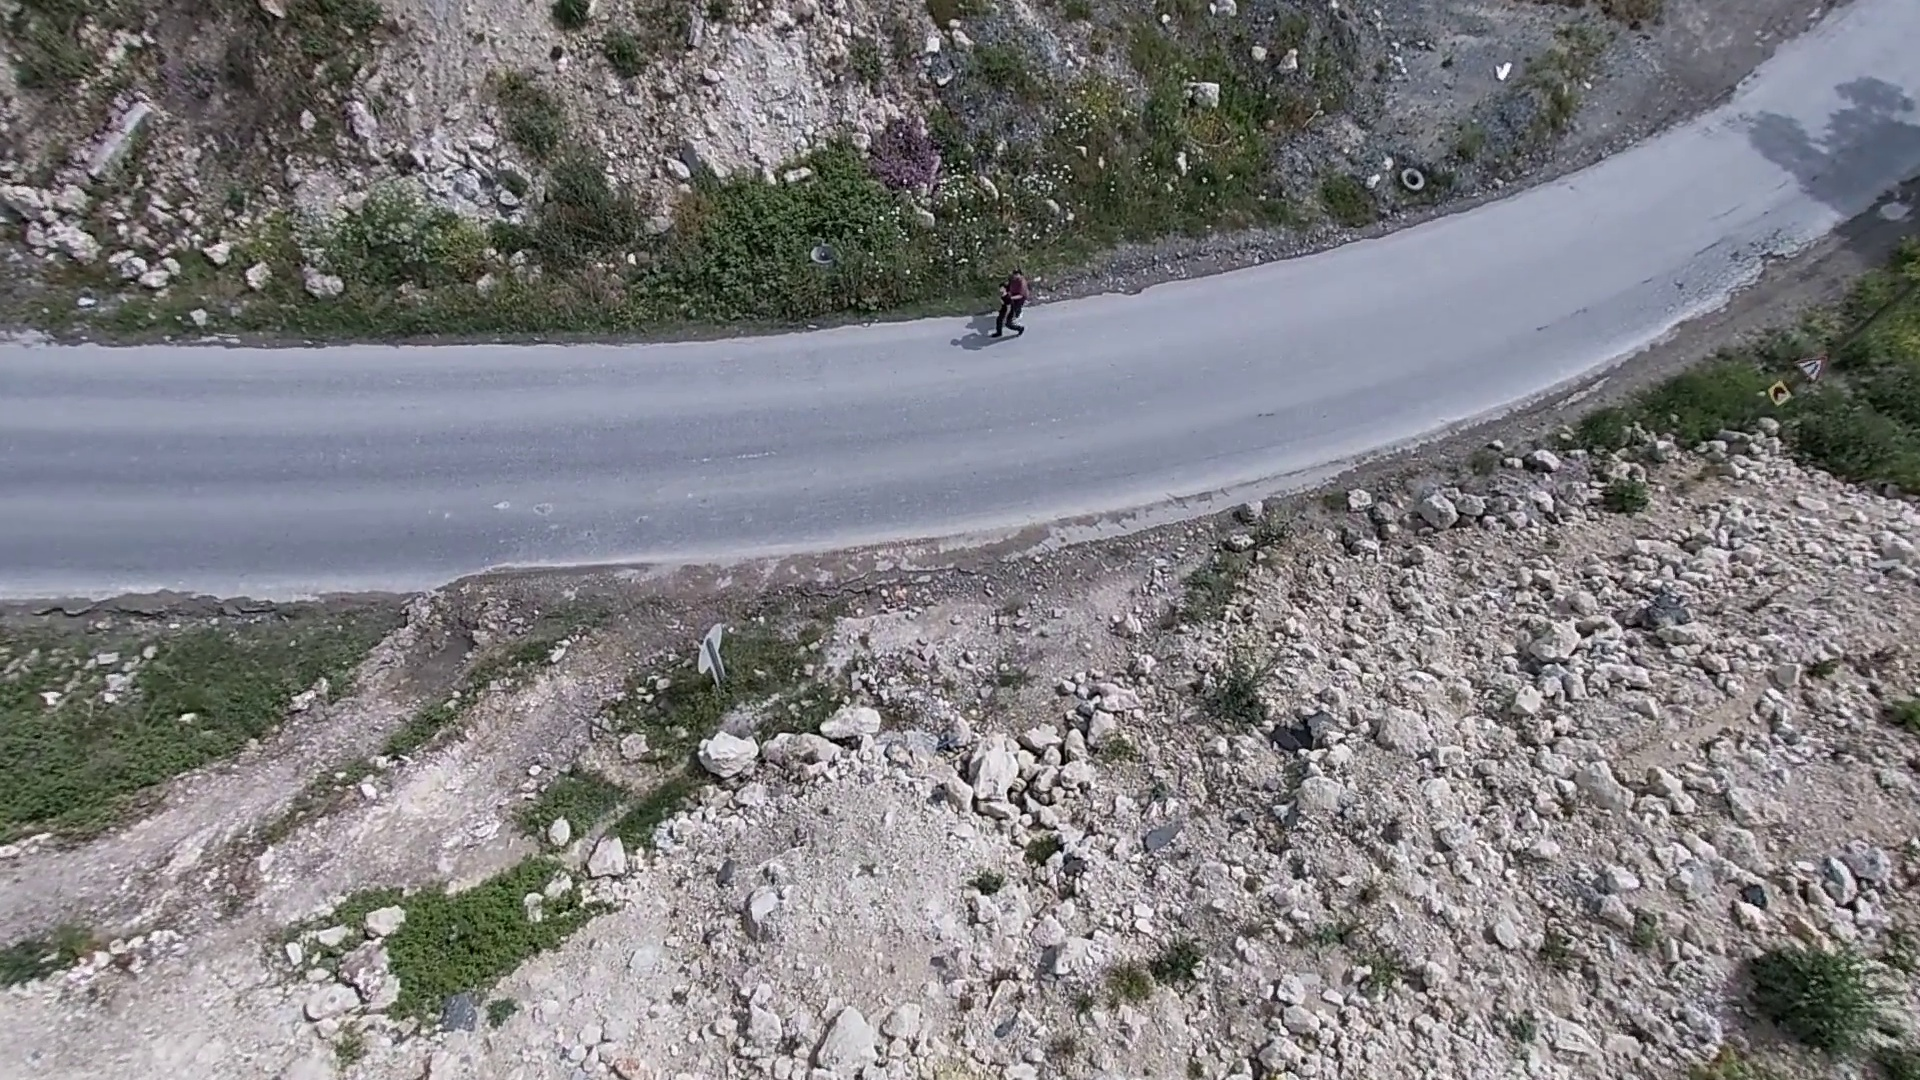insan: (1010, 260, 1048, 328), (991, 280, 1028, 335)
